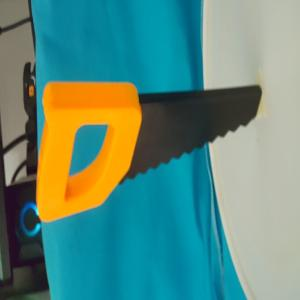serrote: (34, 78, 263, 224)
